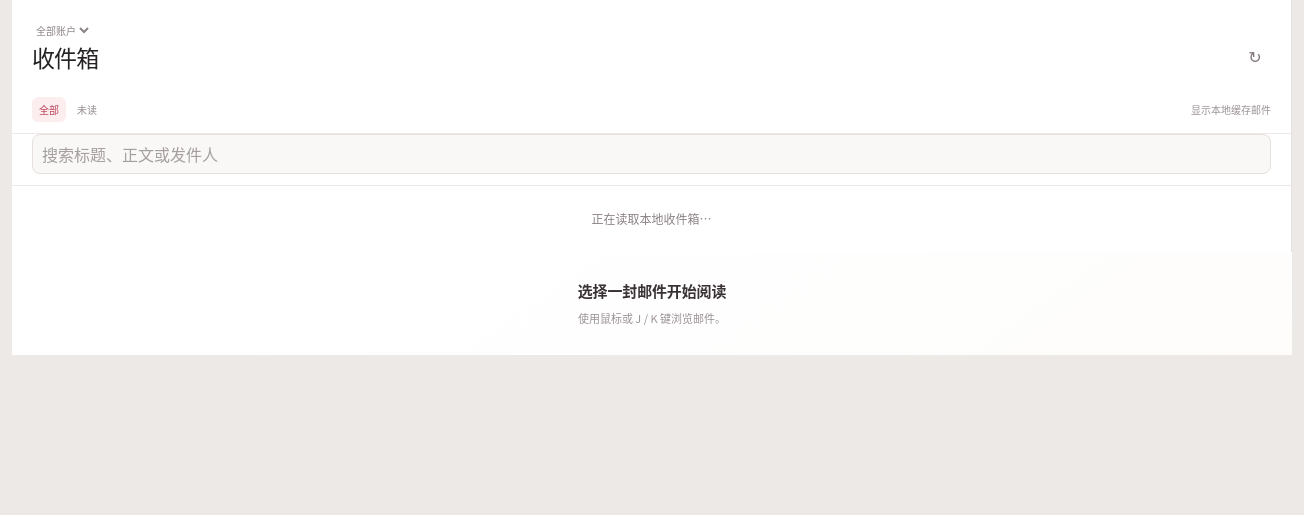
Test: MailWorkspace › 按当前账户和未读范围搜索本地邮件并打开结果
Type "项目" into the search field named "搜索邮件".
click(652, 154); type("项目")  # box [32, 134, 1271, 174]
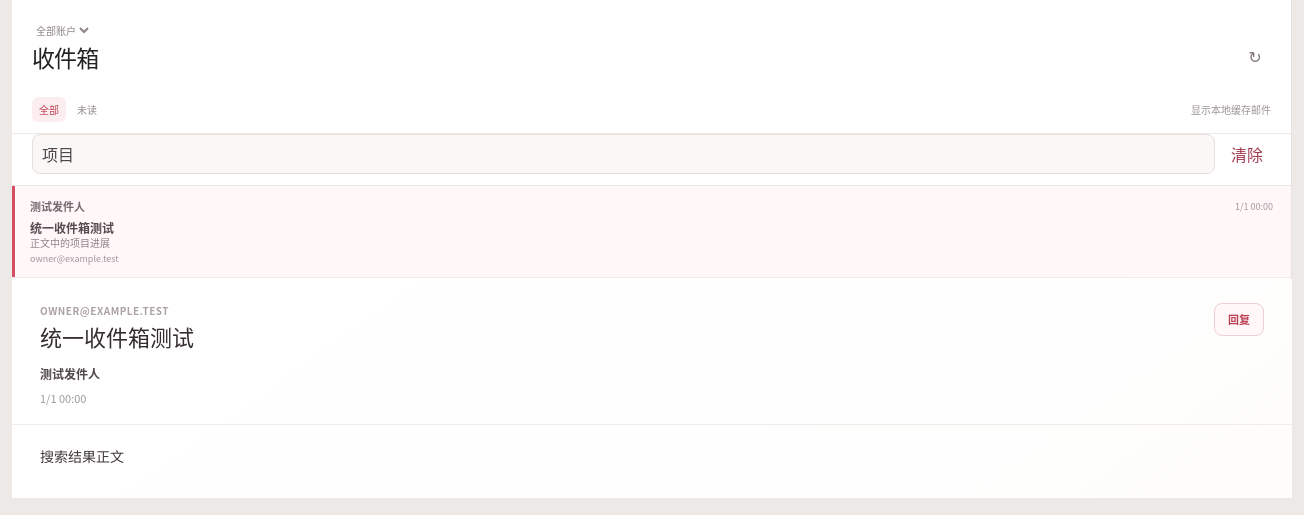
Now the text "正文中的项目进展" is shown, box [30, 235, 110, 250]
Now the text "搜索结果正文" is shown, box [40, 447, 124, 466]
